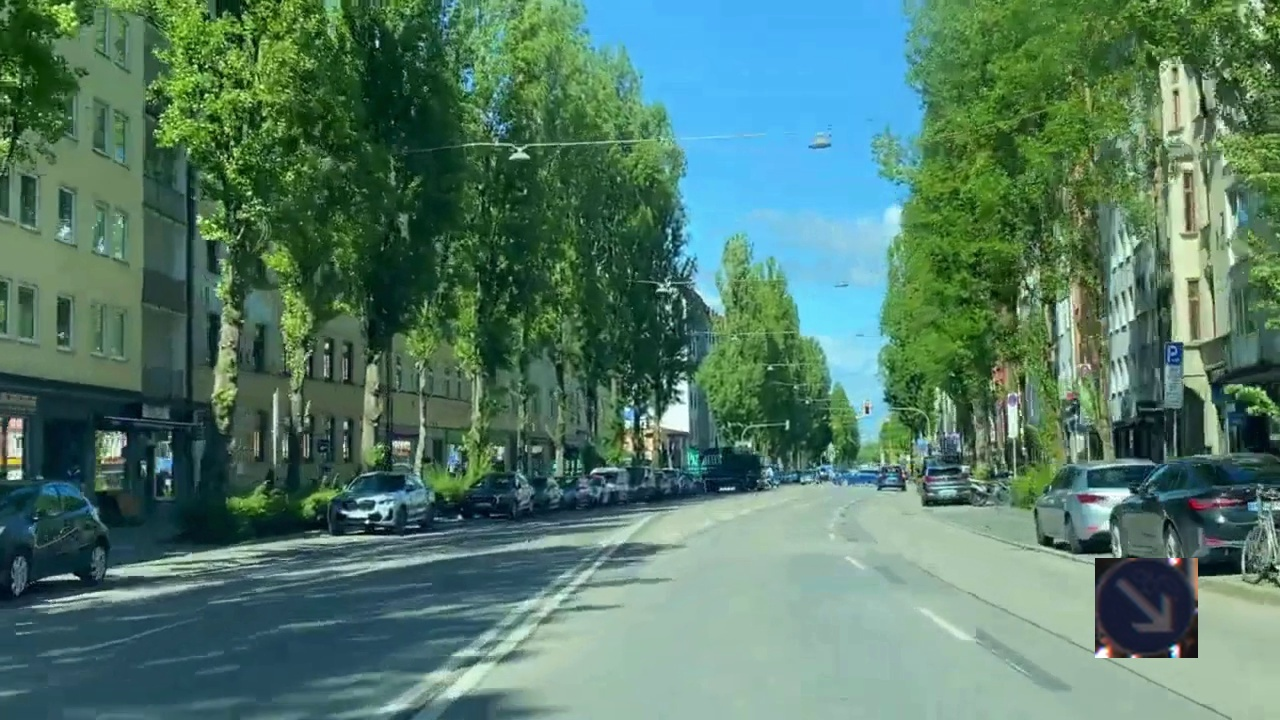Keep right: (1095, 558, 1198, 658)
